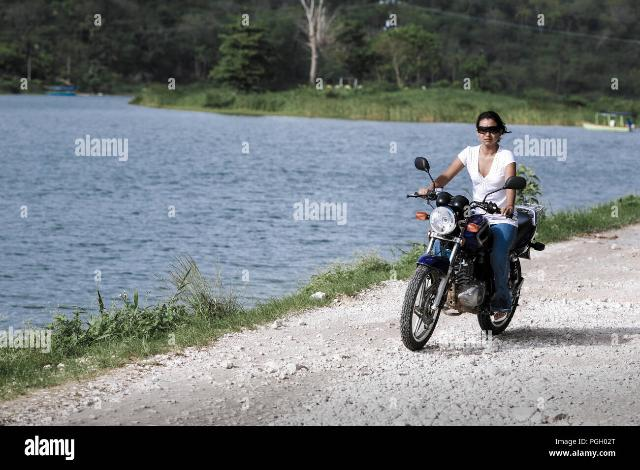motor: (401, 156, 546, 354)
non-helm: (478, 113, 513, 147)
